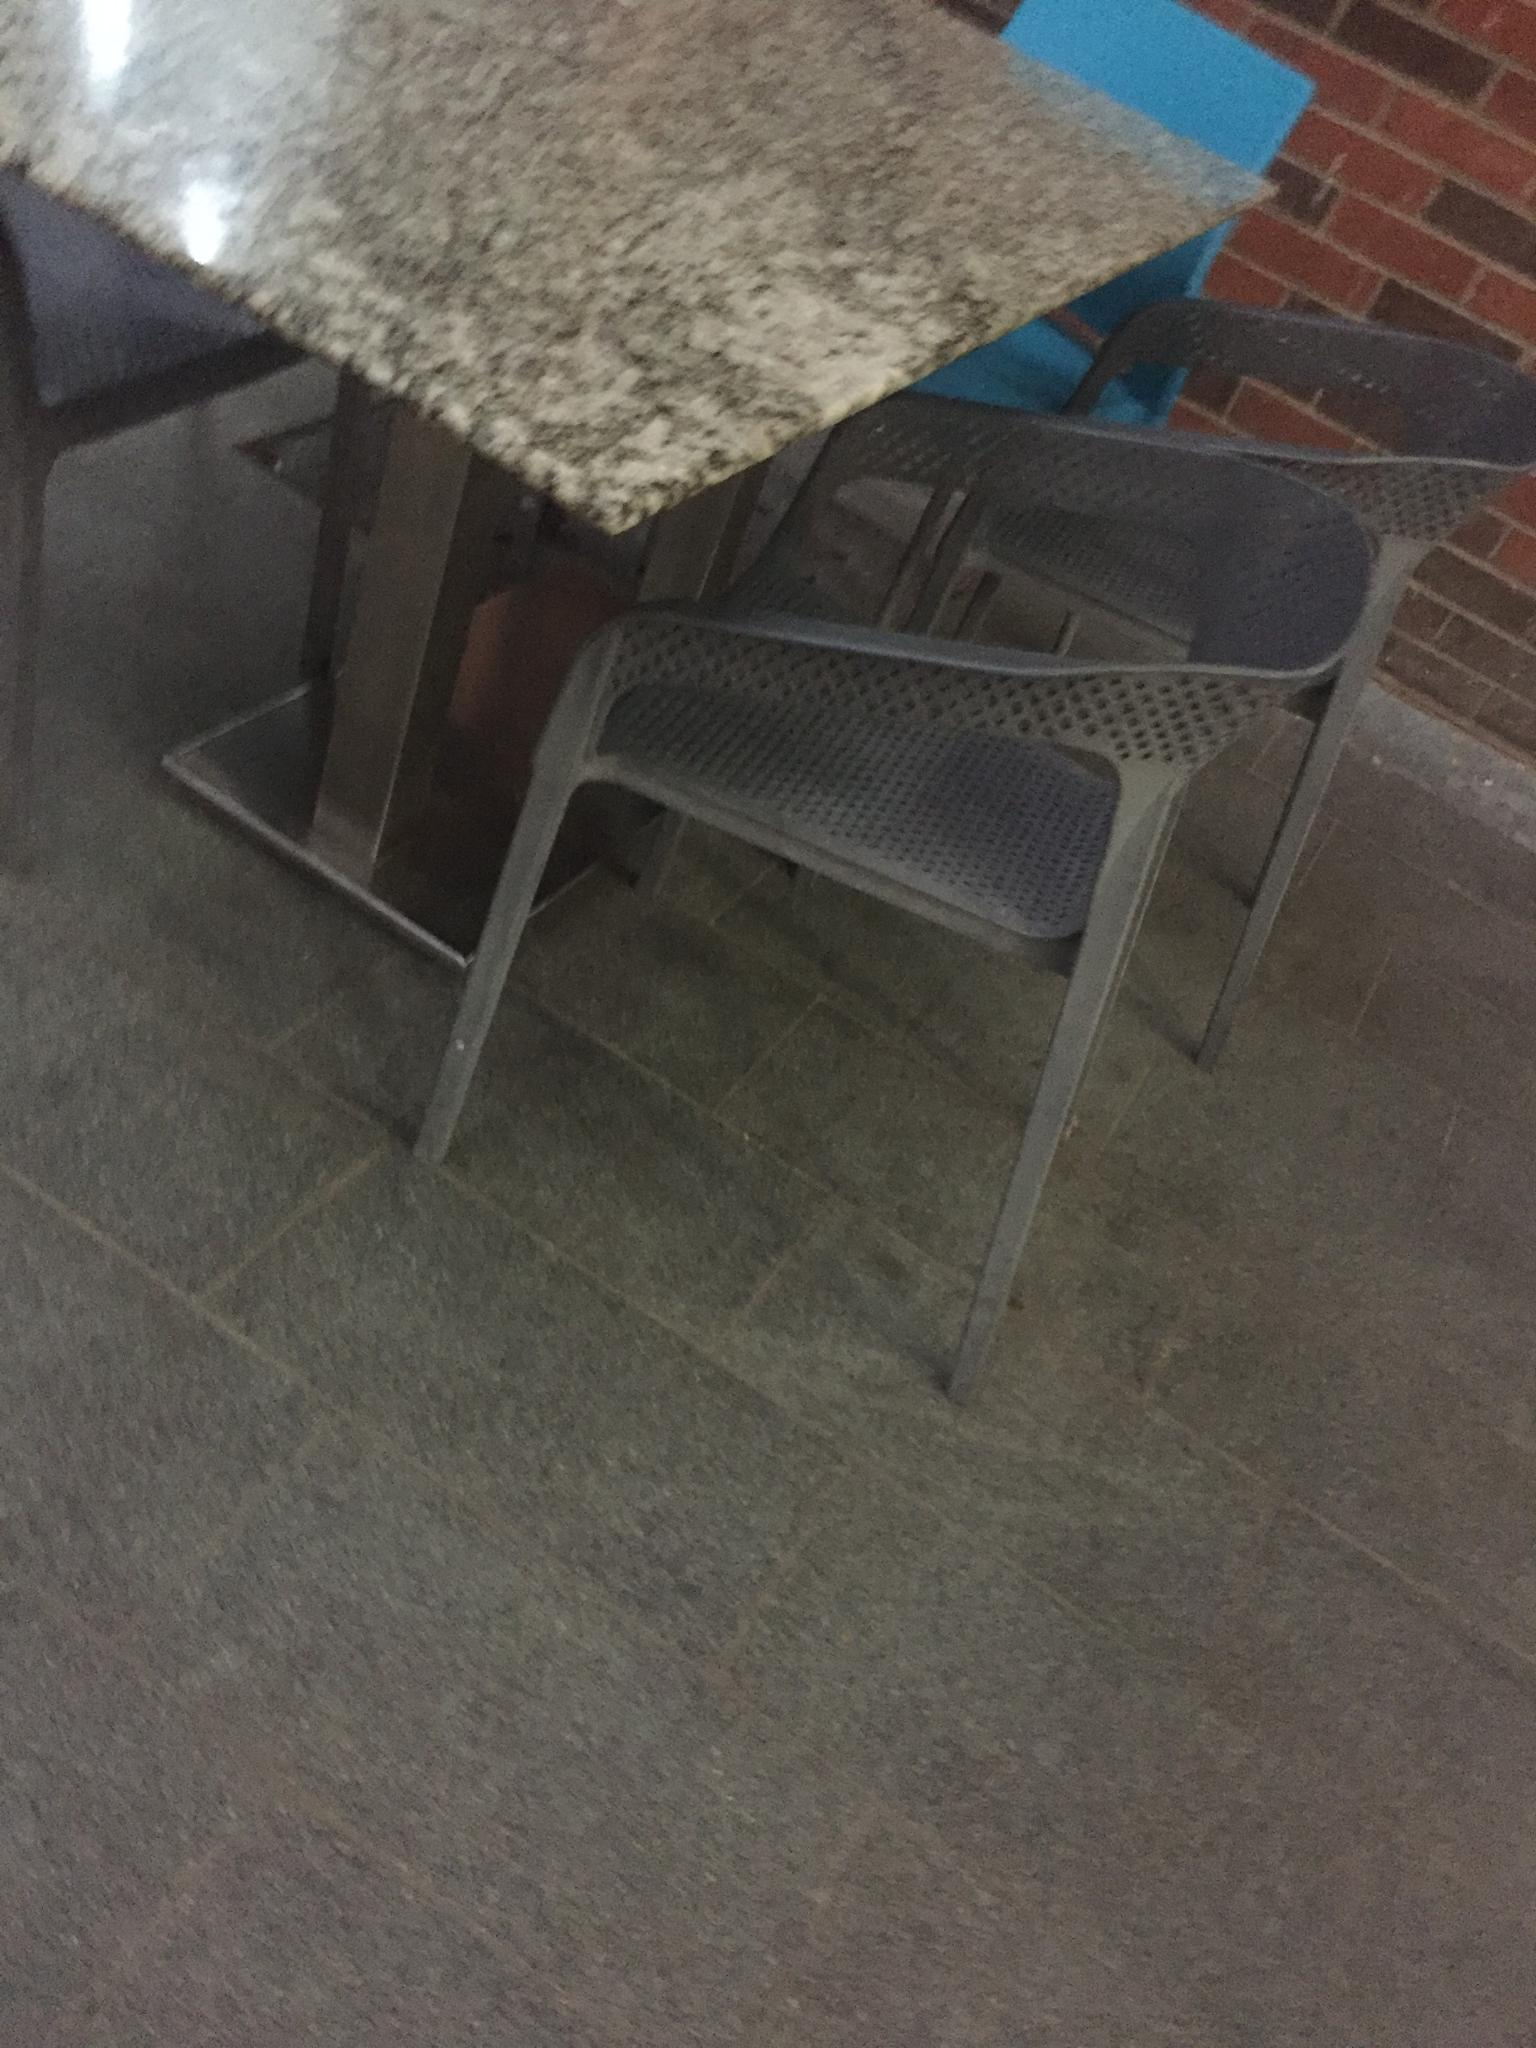chair: (410, 450, 1373, 1403), (784, 284, 1536, 1056), (805, 0, 1362, 484), (0, 58, 395, 735)
